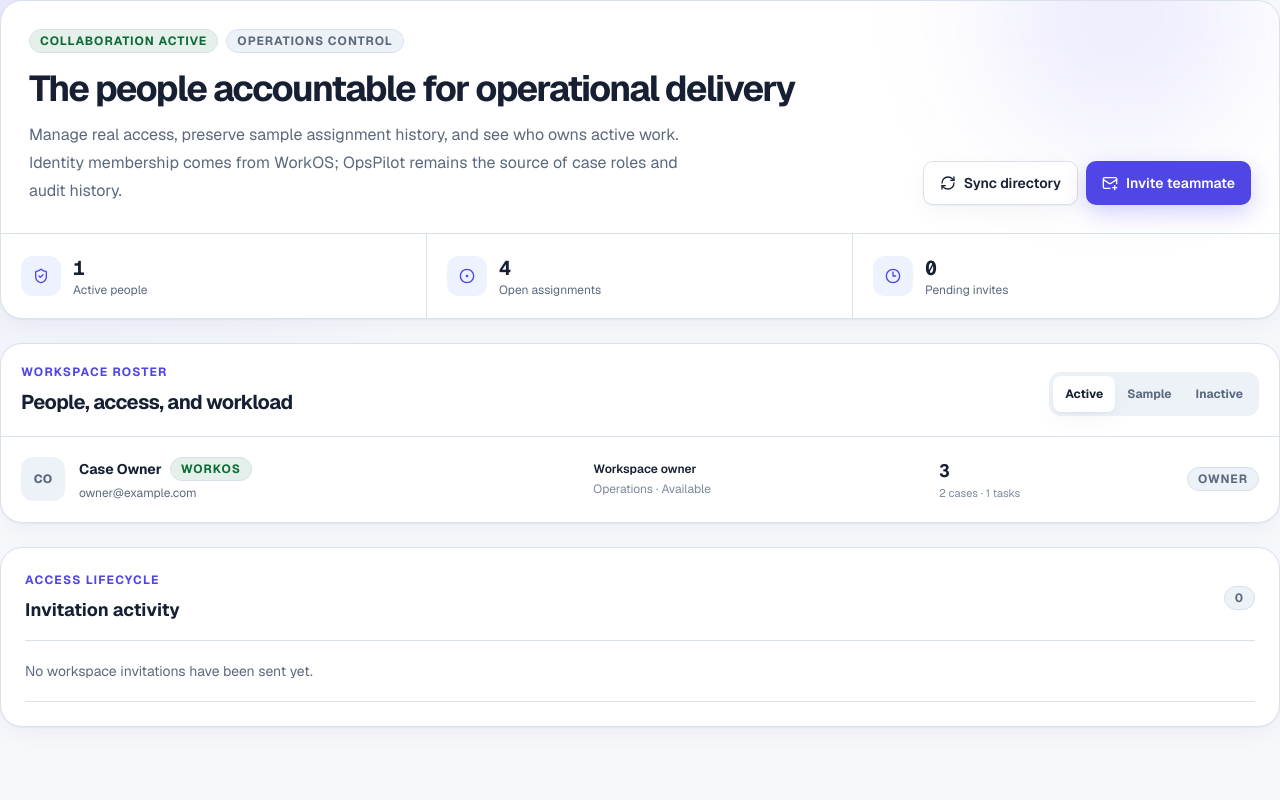
Test: workspace collaboration team control plane › shows workload, sample replacement, and sends a real invitation
The width and height of the screenshot is (1280, 800).
Expected: the text "Operations Control" is shown, [226,29,404,53]
Expected: the text "4" is shown, [499,255,511,281]
Click the button "Invite teammate" at (1168,183), box [1086,161,1251,205]
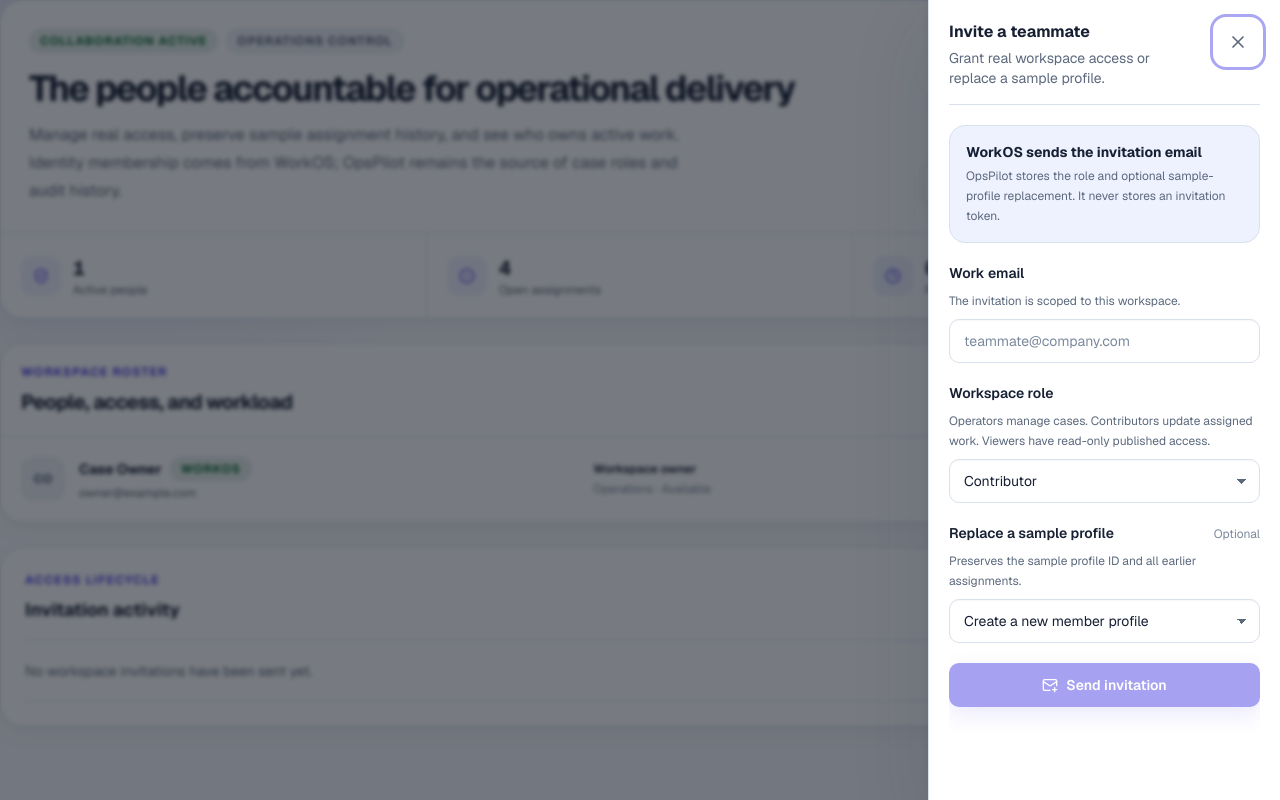
Type "engineer@example.com" into the field labelled "Work email" at (1104,341), box [949,319,1260,363]
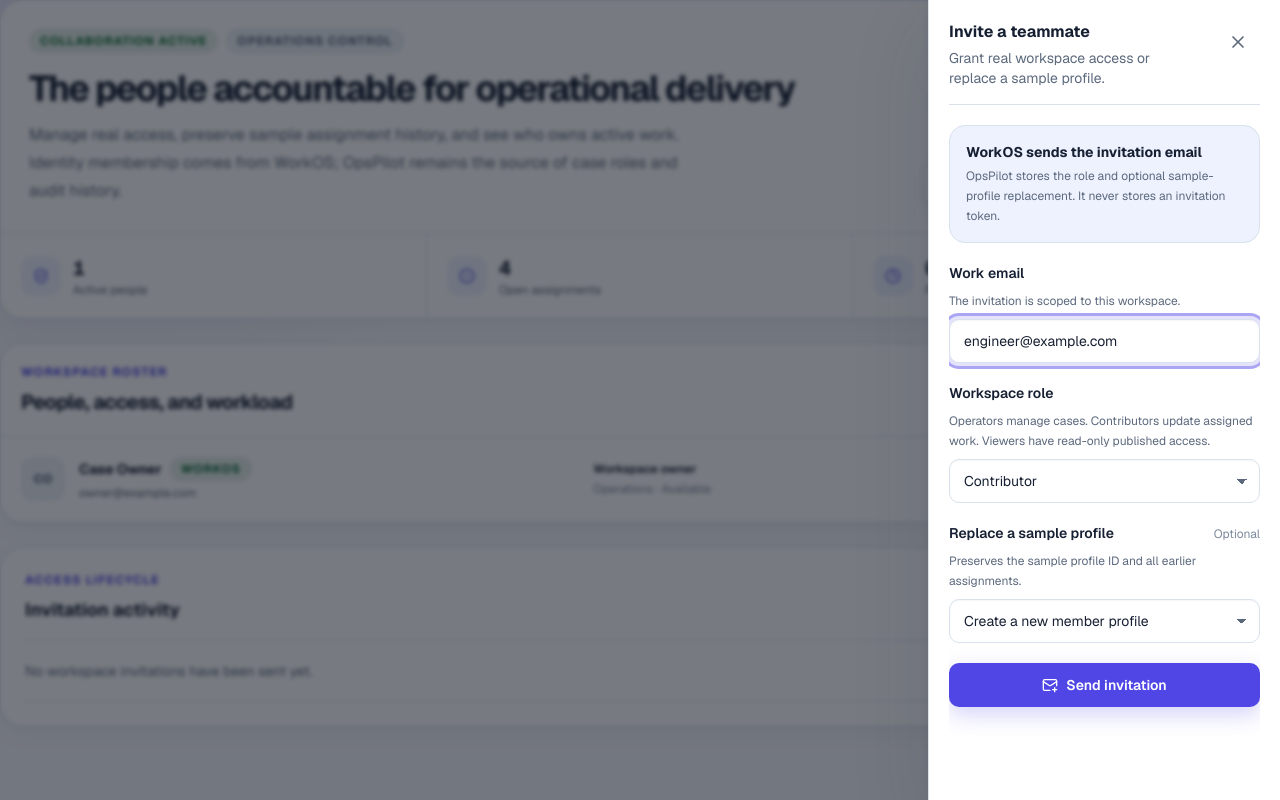
Select "Mina Park · Software engineer" in the dropdown labelled "Replace a sample profile" at (1104,621), box [949,599,1260,643]
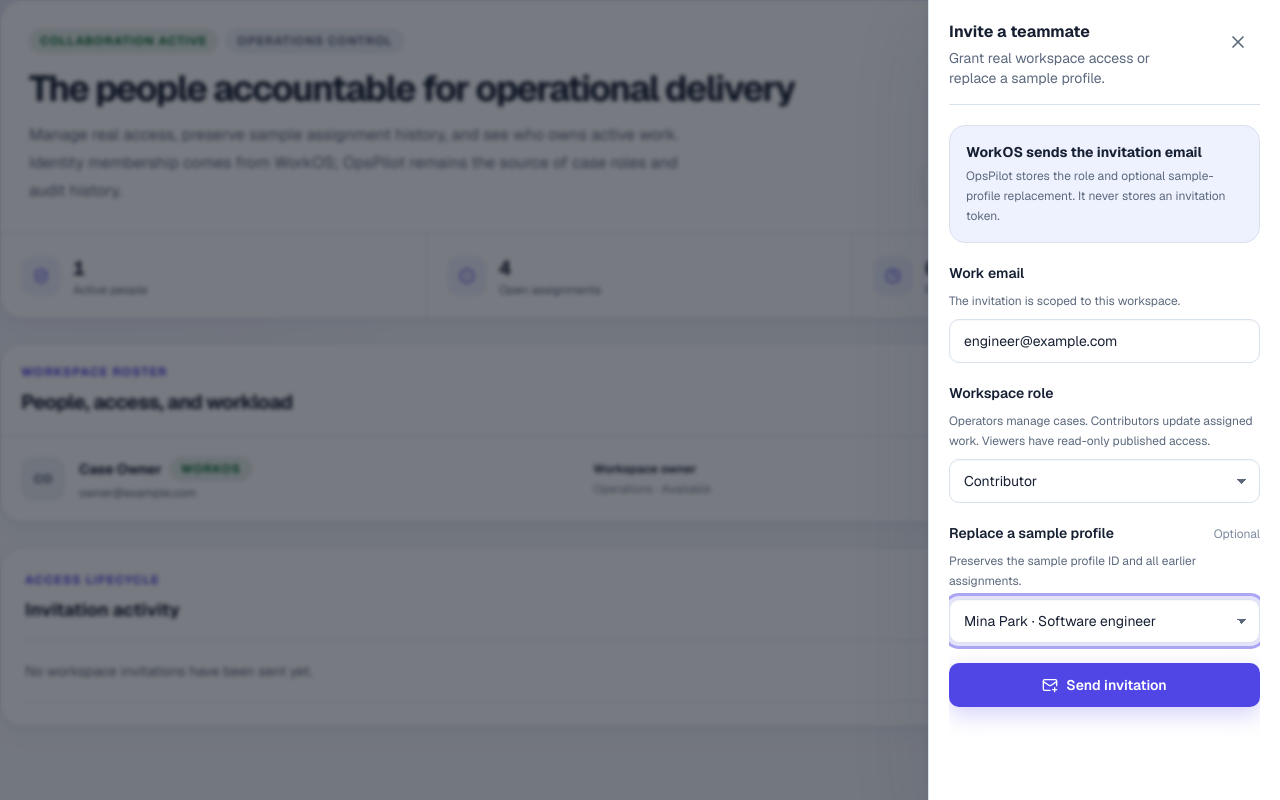
Click the button "Send invitation" at (1104,685), box [949,663,1260,707]
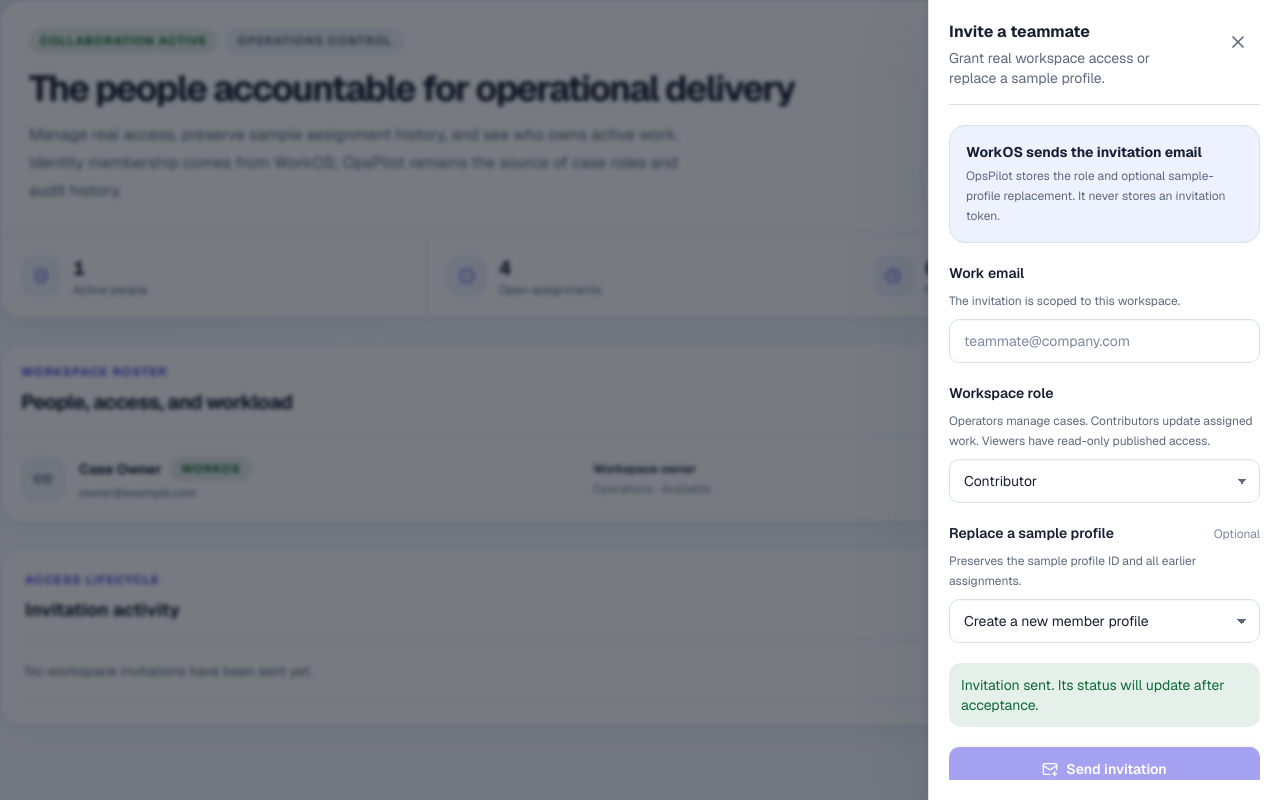
Expected: the text "Invitation sent. Its status will update after acceptance." is shown, [949,663,1260,727]
